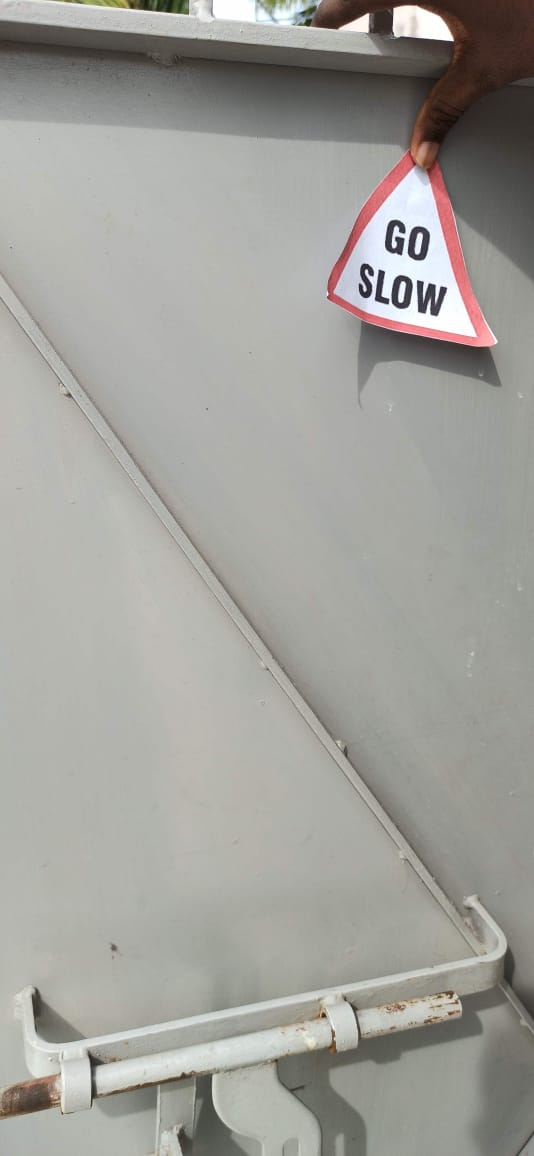GO SLOW: (308, 128, 522, 367)
